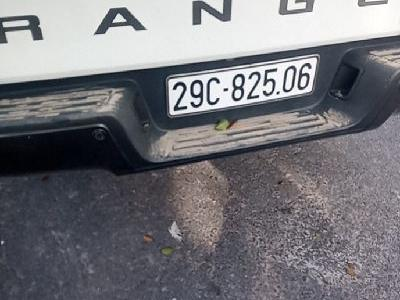lisence: (165, 54, 320, 119)
